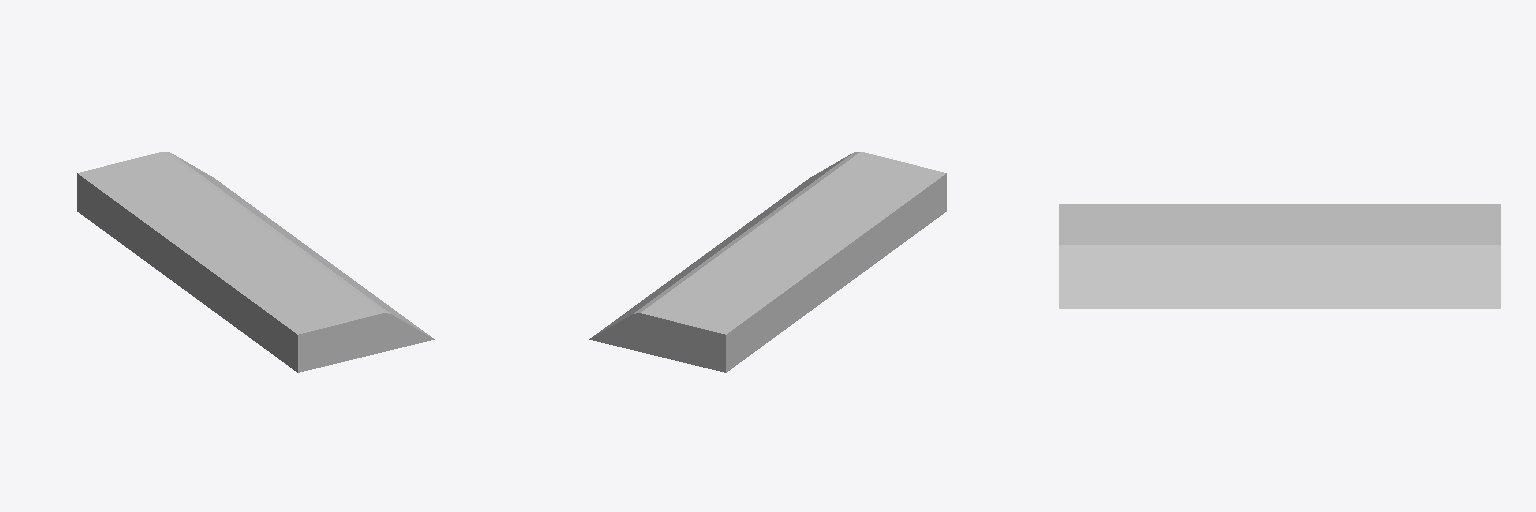
Rendered from balconyfloor_uv.obj.
3 renders of one model, left to right at view 1: azimuth 30°, elevation 25°; view 2: azimuth 150°, elevation 25°; view 3: azimuth 270°, elevation 25°, orthographic.
Visible parts, largest first — view 1: BalconyFloor MainBuilding; view 2: BalconyFloor MainBuilding; view 3: BalconyFloor MainBuilding.
Part boxes in pixels (left/top/right/bottom): BalconyFloor MainBuilding: left=77, top=152, right=434, bottom=372; BalconyFloor MainBuilding: left=589, top=152, right=946, bottom=372; BalconyFloor MainBuilding: left=1059, top=204, right=1500, bottom=308.
Size of the model in its own units: 5.07 by 1.38 by 14.16.